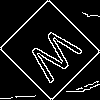W: (24, 24, 90, 91)
